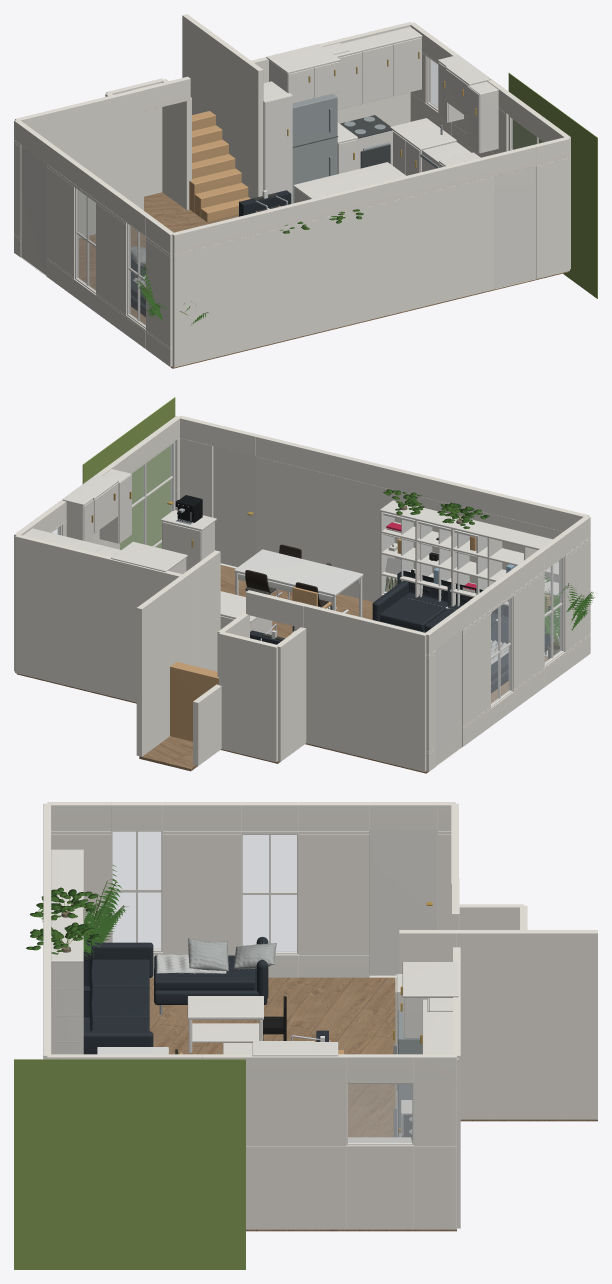
3 views of the same model, one above another, from view 1: azimuth 30°, elevation 25°; view 2: azimuth 150°, elevation 25°; view 3: azimuth 270°, elevation 25° (orthographic). The views are drawn at different scales.
Parts seen in each view (by area): view 1: wall_8_segment.006, wall_11_segment, wall_8_segment.007, inferred_outdoor_brightness, wall_3_segment, door_panel.002, wall_8_segment.001, home-downstairs__refrigerator_24__body, wall_2_segment, measured_floor_polygon, wall_5_segment, door_panel (+52 smaller); view 2: wall_1_segment, wall_11_segment, wall_8_segment.006, wall_3_segment, wall_8_segment.007, wall_4_segment, inferred_outdoor_brightness, door_panel.002, measured_floor_polygon, wall_9_segment, wall_0_segment.015, observed_glazed_patio_panel (+45 smaller); view 3: inferred_outdoor_brightness, wall_3_segment, measured_floor_polygon, wall_0_segment.015, wall_0_segment.027, wall_7_segment.007, door_panel, wall_7_segment.008, wall_7_segment.004, glass.001, glass, glass.002 (+40 smaller).
Boxes of the visible parts, bbox=[...] form: wall_8_segment.006: bbox=[172, 176, 493, 367]; wall_11_segment: bbox=[15, 88, 143, 237]; wall_8_segment.007: bbox=[172, 155, 493, 254]; inferred_outdoor_brightness: bbox=[508, 73, 597, 298]; wall_3_segment: bbox=[182, 14, 240, 168]; door_panel.002: bbox=[494, 166, 535, 288]; wall_8_segment.001: bbox=[536, 158, 569, 278]; home-downstairs__refrigerator_24__body: bbox=[292, 94, 337, 203]; wall_2_segment: bbox=[236, 53, 263, 198]; measured_floor_polygon: bbox=[79, 192, 568, 368]; wall_5_segment: bbox=[161, 79, 191, 209]; door_panel: bbox=[21, 145, 46, 275]; wall_1_segment: bbox=[15, 535, 181, 702]; wall_11_segment: bbox=[294, 601, 426, 771]; wall_8_segment.006: bbox=[256, 456, 562, 641]; wall_3_segment: bbox=[136, 567, 197, 756]; wall_8_segment.007: bbox=[256, 434, 589, 531]; wall_4_segment: bbox=[219, 632, 278, 762]; inferred_outdoor_brightness: bbox=[82, 397, 175, 549]; door_panel.002: bbox=[213, 446, 255, 567]; measured_floor_polygon: bbox=[16, 565, 547, 773]; wall_9_segment: bbox=[277, 627, 306, 761]; wall_0_segment.015: bbox=[508, 574, 544, 689]; observed_glazed_patio_panel: bbox=[120, 445, 172, 549]; inferred_outdoor_brightness: bbox=[14, 1059, 245, 1269]; wall_3_segment: bbox=[457, 930, 597, 1119]; measured_floor_polygon: bbox=[149, 977, 597, 1231]; wall_0_segment.015: bbox=[163, 834, 241, 952]; wall_0_segment.027: bbox=[298, 834, 369, 952]; wall_7_segment.007: bbox=[246, 1146, 346, 1229]; door_panel: bbox=[369, 830, 437, 975]; wall_7_segment.008: bbox=[246, 1083, 346, 1145]; wall_7_segment.004: bbox=[346, 1145, 413, 1229]; glass.001: bbox=[243, 835, 296, 951]; glass: bbox=[113, 832, 160, 949]; glass.002: bbox=[348, 1084, 411, 1142].
Bounding box in the file's own units: 8.43 × 3.11 × 7.55.
Materials: 43 (1 with a texture image).
